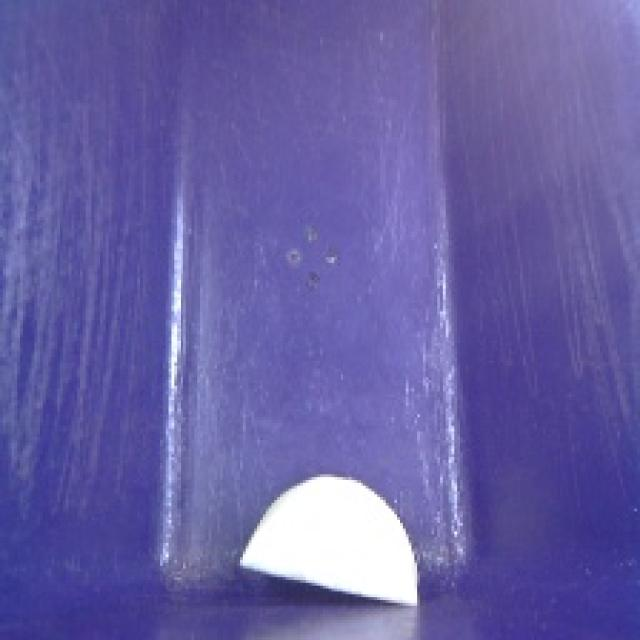white_radish: (230, 462, 431, 622)
